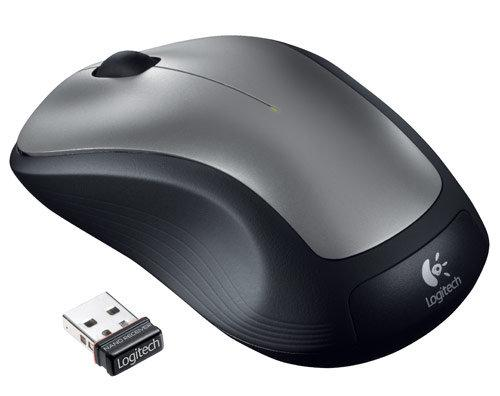computer mouse: (9, 35, 491, 369)
